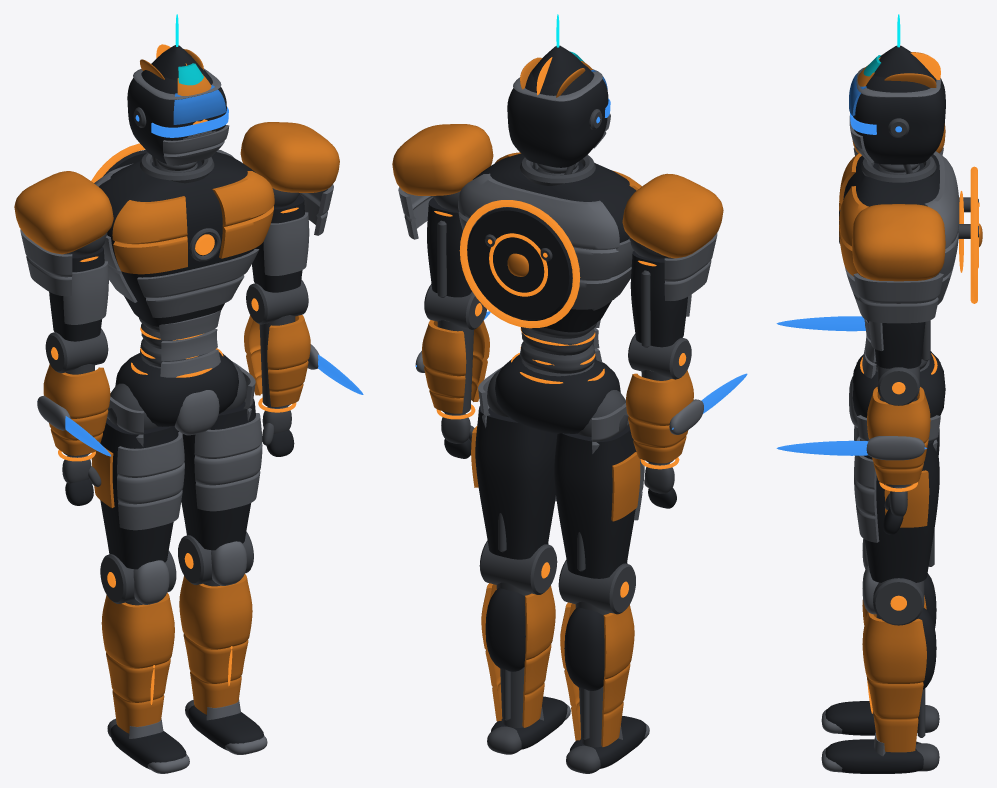
The model's file is gladiators.glb.
3 views of the same model, side by side, from view 1: azimuth 30°, elevation 25°; view 2: azimuth 150°, elevation 25°; view 3: azimuth 270°, elevation 25° (orthographic).
Visible parts, largest first — view 1: claude_spine_paint, claude_spine_alloy, claude_knL_paint, claude_knR_paint, claude_spine_shell, claude_shR_paint, claude_shL_paint, claude_hipR_alloy, claude_hipL_alloy, claude_hips_shell, claude_hipR_shell, claude_elL_paint (+26 smaller); view 2: claude_hipL_shell, claude_hipR_shell, claude_spine_alloy, claude_disc_shell, claude_shR_paint, claude_hips_shell, codex_head_shell, claude_shL_paint, claude_spine_frame, claude_knL_frame, claude_knR_frame, claude_spine_shell (+22 smaller); view 3: claude_knL_paint, claude_shL_paint, codex_head_shell, claude_hipL_shell, claude_shL_alloy, claude_elL_paint, claude_knL_shell, claude_spine_alloy, claude_knL_frame, claude_spine_shell, claude_hips_shell, claude_shL_shell (+17 smaller).
Boxes of the visible parts, left/top/right/bottom form: claude_spine_paint: left=112, top=171, right=274, bottom=274; claude_spine_alloy: left=94, top=149, right=259, bottom=377; claude_knL_paint: left=179, top=574, right=252, bottom=714; claude_knR_paint: left=101, top=592, right=174, bottom=733; claude_spine_shell: left=99, top=152, right=255, bottom=326; claude_shR_paint: left=14, top=171, right=113, bottom=254; claude_shL_paint: left=240, top=122, right=339, bottom=192; claude_hipR_alloy: left=117, top=432, right=184, bottom=530; claude_hipL_alloy: left=194, top=413, right=262, bottom=511; claude_hips_shell: left=115, top=352, right=238, bottom=426; claude_hipR_shell: left=100, top=418, right=178, bottom=569; claude_elL_paint: left=244, top=315, right=310, bottom=406; claude_hipL_shell: left=475, top=405, right=557, bottom=559; claude_hipR_shell: left=554, top=425, right=636, bottom=578; claude_spine_alloy: left=458, top=173, right=633, bottom=362; claude_disc_shell: left=467, top=207, right=572, bottom=320; claude_shR_paint: left=622, top=173, right=723, bottom=258; claude_hips_shell: left=495, top=354, right=620, bottom=433; codex_head_shell: left=507, top=72, right=608, bottom=167; claude_shL_paint: left=392, top=124, right=493, bottom=195; claude_spine_frame: left=433, top=155, right=668, bottom=376; claude_knL_frame: left=479, top=540, right=557, bottom=754; claude_knR_frame: left=558, top=559, right=635, bottom=773; claude_spine_shell: left=473, top=153, right=636, bottom=332; claude_knL_paint: left=862, top=612, right=926, bottom=752; claude_shL_paint: left=852, top=204, right=945, bottom=281; codex_head_shell: left=853, top=79, right=945, bottom=164; claude_hipL_shell: left=860, top=439, right=939, bottom=582; claude_shL_alloy: left=853, top=273, right=943, bottom=350; claude_elL_paint: left=867, top=387, right=930, bottom=484; claude_knL_shell: left=825, top=608, right=936, bottom=773; claude_spine_alloy: left=845, top=151, right=959, bottom=378; claude_knL_frame: left=873, top=578, right=939, bottom=771; claude_spine_shell: left=843, top=154, right=939, bottom=323; claude_hips_shell: left=852, top=351, right=945, bottom=417; claude_shL_shell: left=875, top=322, right=925, bottom=368.
Size of the model in its own units: 4.63 by 10.73 by 2.73.
